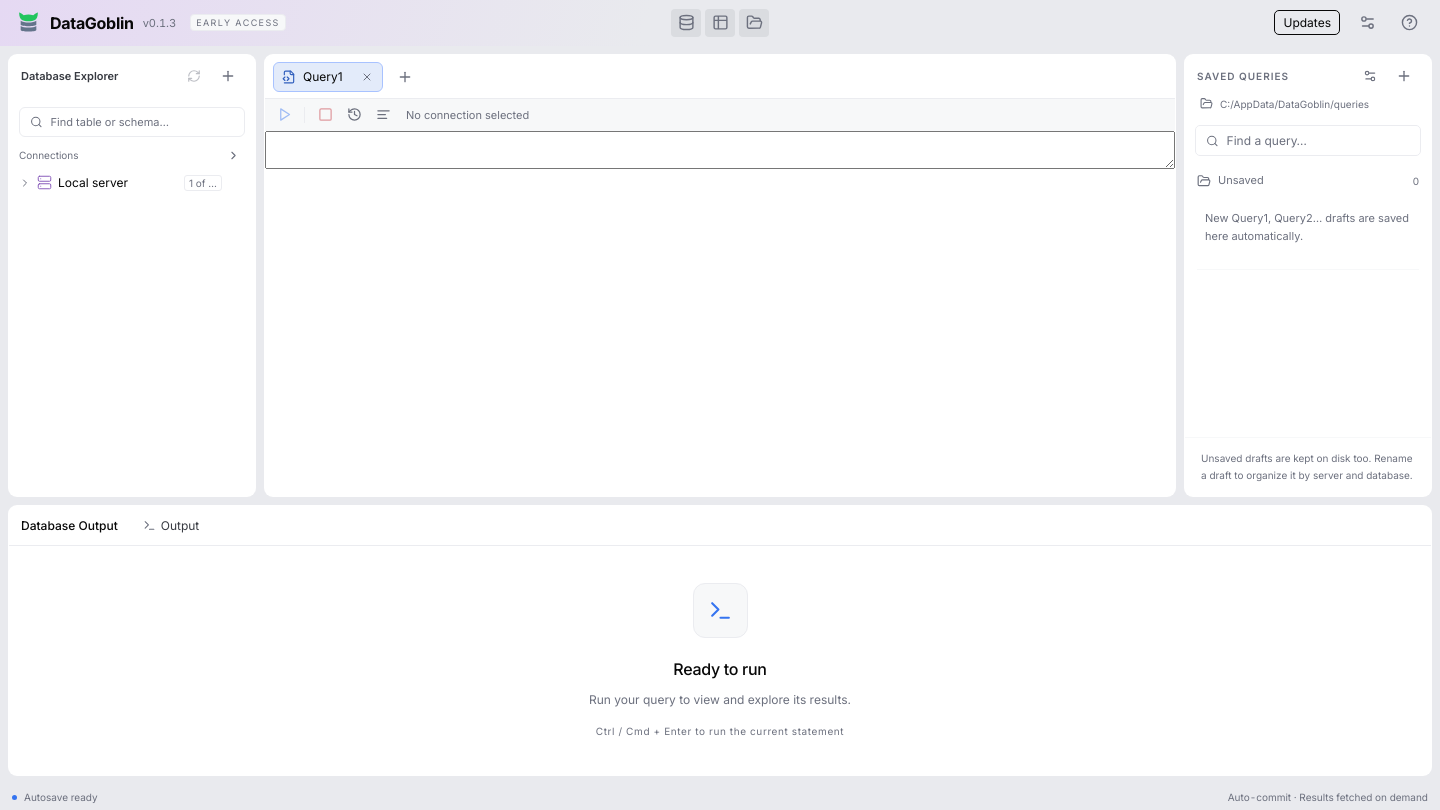
keeps the fetched page visible after progress updates and cancels an idle result stream
Later steps or results of the test are not shown.
Expected: the text "Autosave ready" is shown, [24,791,98,803]
Click the button "Local server" at (100, 182), box [15,170,184,195]
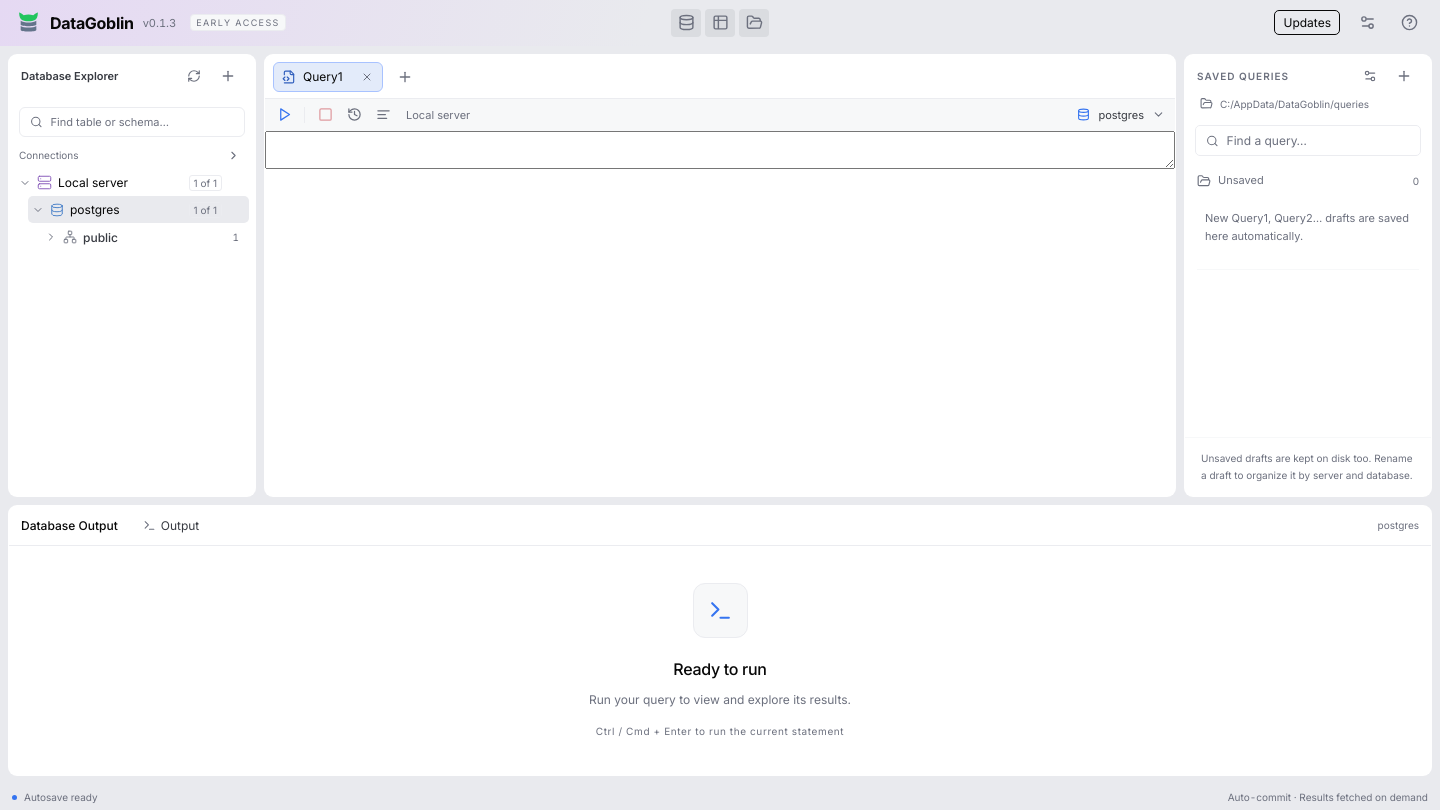
Type "SELECT 42;" into the text box named "SQL editor" at (720, 150), box [265,131,1175,169]
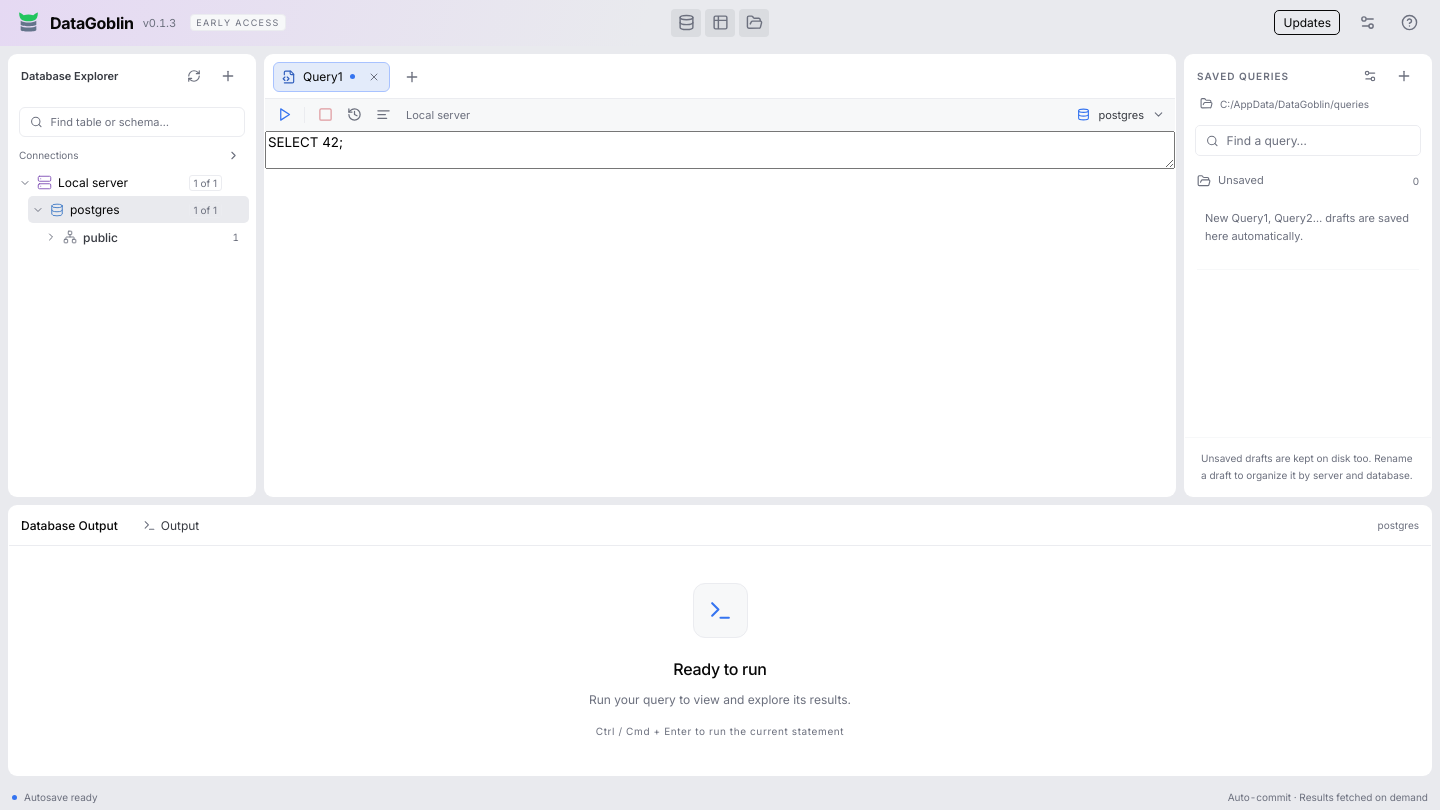
Click the button named "Run all" at (284, 114), box [271,102,297,128]
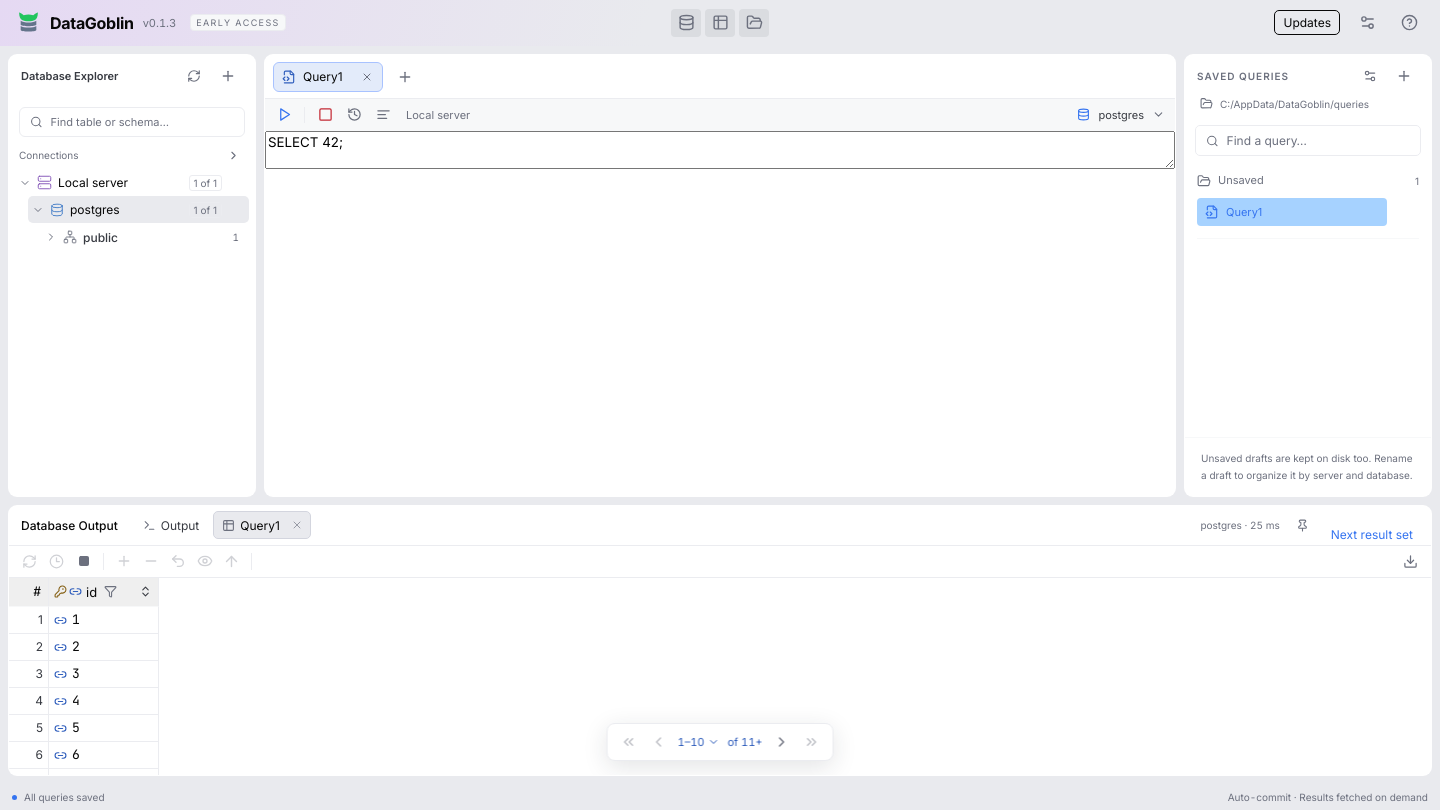
Expected: the element labelled "1–10 of 11+" is shown, [674,731,765,753]
Expected: the picture named "Primary key" is shown, [54,585,67,598]
Click the button titled "Next page" at (782, 742), box [768,728,796,756]
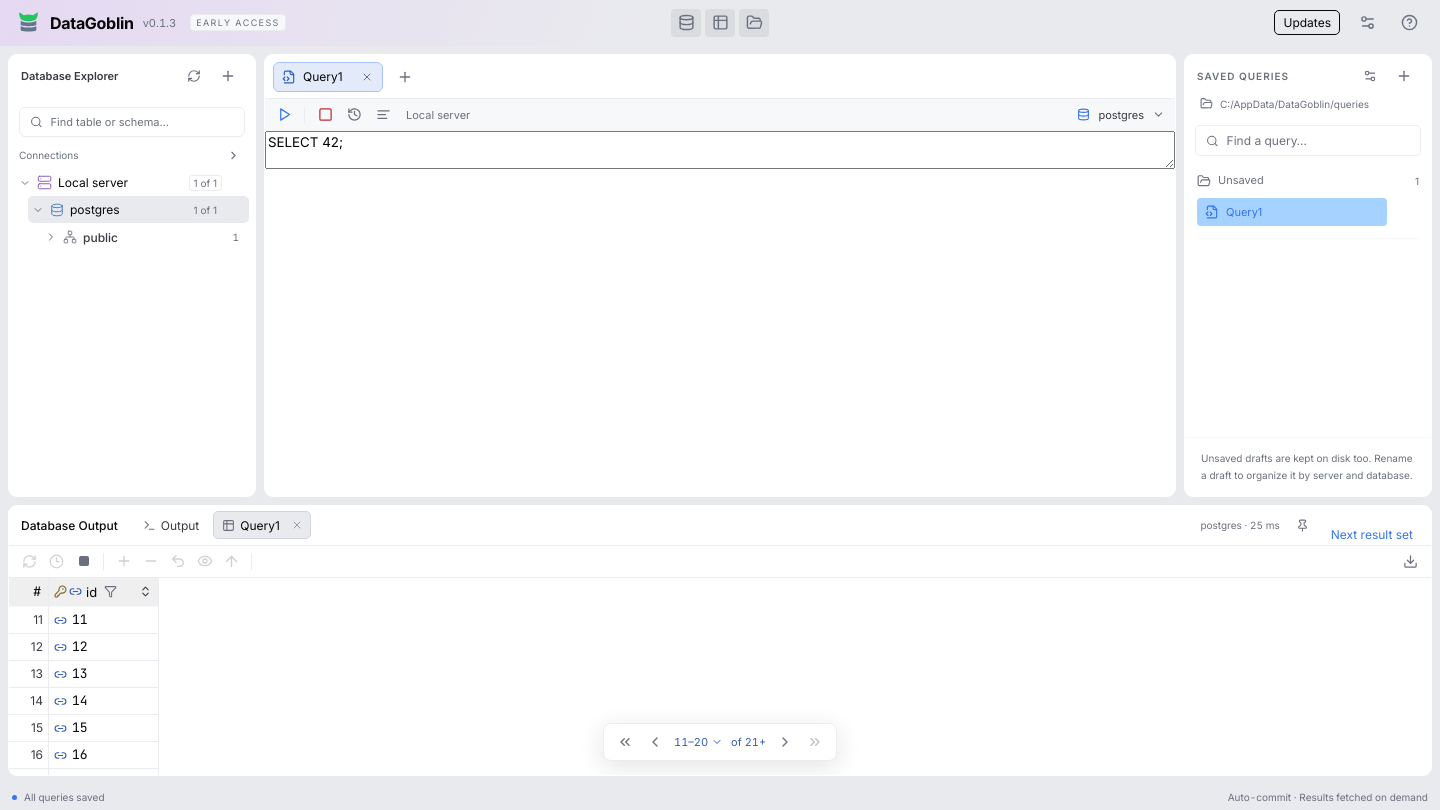
Expected: the picture named "Primary key" is shown, [54,585,67,598]
Expected: the picture named "Foreign key" is shown, [69,585,82,598]
Expected: the element labelled "11–20 of 21+" is shown, [671,731,769,753]
